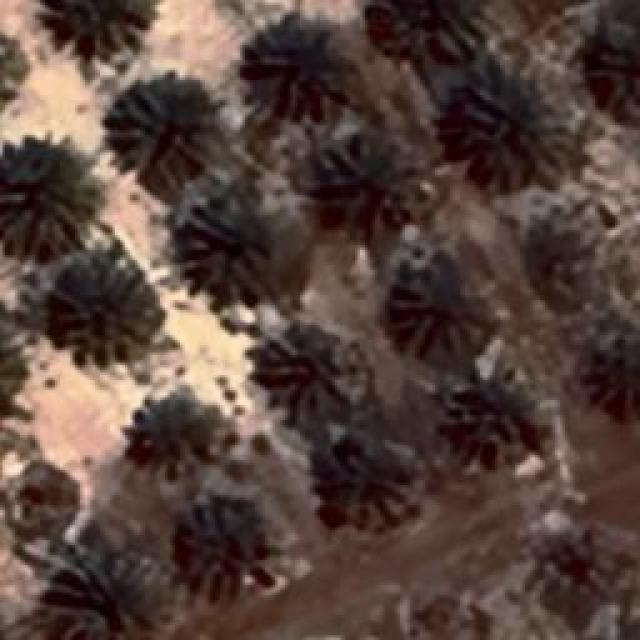PalmTree: (43, 109, 578, 563), (74, 68, 618, 109), (450, 64, 572, 188), (103, 74, 230, 188), (184, 502, 294, 602), (48, 264, 158, 362), (40, 552, 158, 638), (0, 150, 90, 255), (251, 23, 349, 118), (178, 200, 268, 302), (314, 431, 414, 519), (128, 386, 224, 476), (312, 142, 416, 225), (255, 320, 343, 415), (446, 378, 549, 456), (40, 0, 157, 62), (400, 265, 490, 345), (370, 0, 485, 60), (592, 332, 640, 420), (0, 20, 25, 122), (0, 316, 24, 421), (0, 20, 18, 126), (0, 317, 17, 421)
